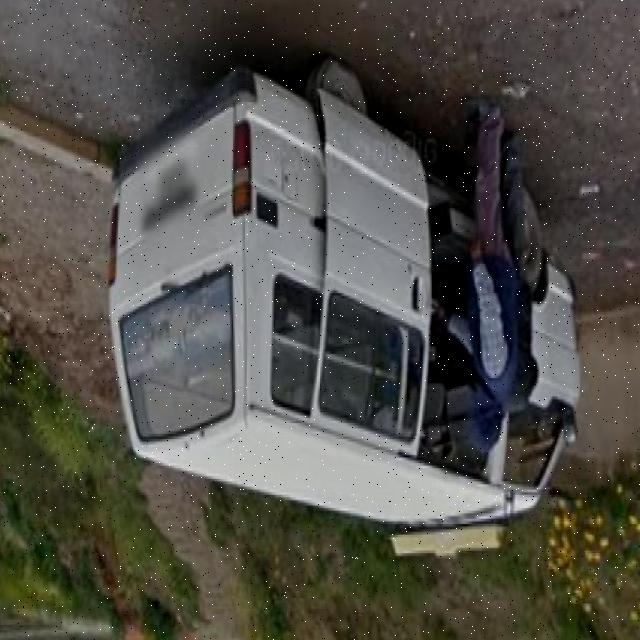car: (112, 66, 592, 546)
